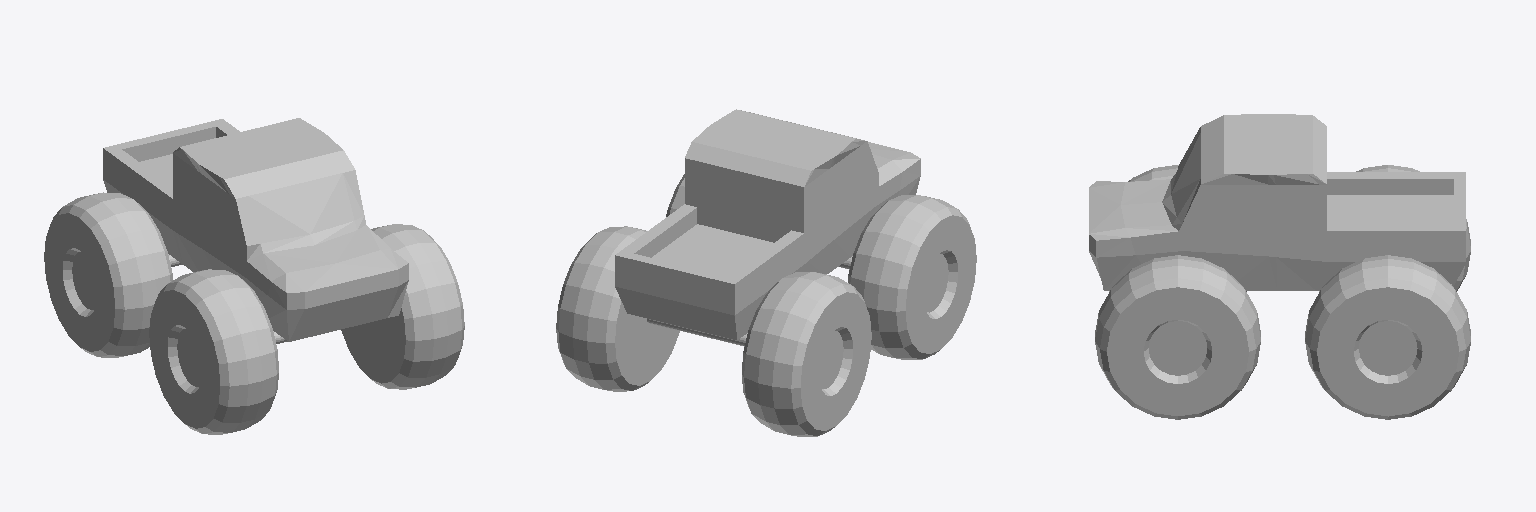
File: monstertruck.obj
3 views of the same model, side by side, from view 1: azimuth 30°, elevation 25°; view 2: azimuth 150°, elevation 25°; view 3: azimuth 270°, elevation 25° (orthographic).
Visible parts, largest first — view 1: car; view 2: car; view 3: car.
Part boxes in pixels (left/top/right/bottom): car: left=44, top=118, right=464, bottom=434; car: left=556, top=109, right=976, bottom=436; car: left=1089, top=114, right=1470, bottom=419.
Size of the model in its own units: 0.5806 by 0.507 by 0.7872.